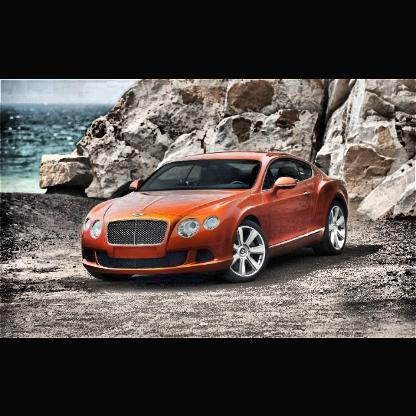Bentley Continental GT Coupe 2012: (81, 149, 353, 285)
